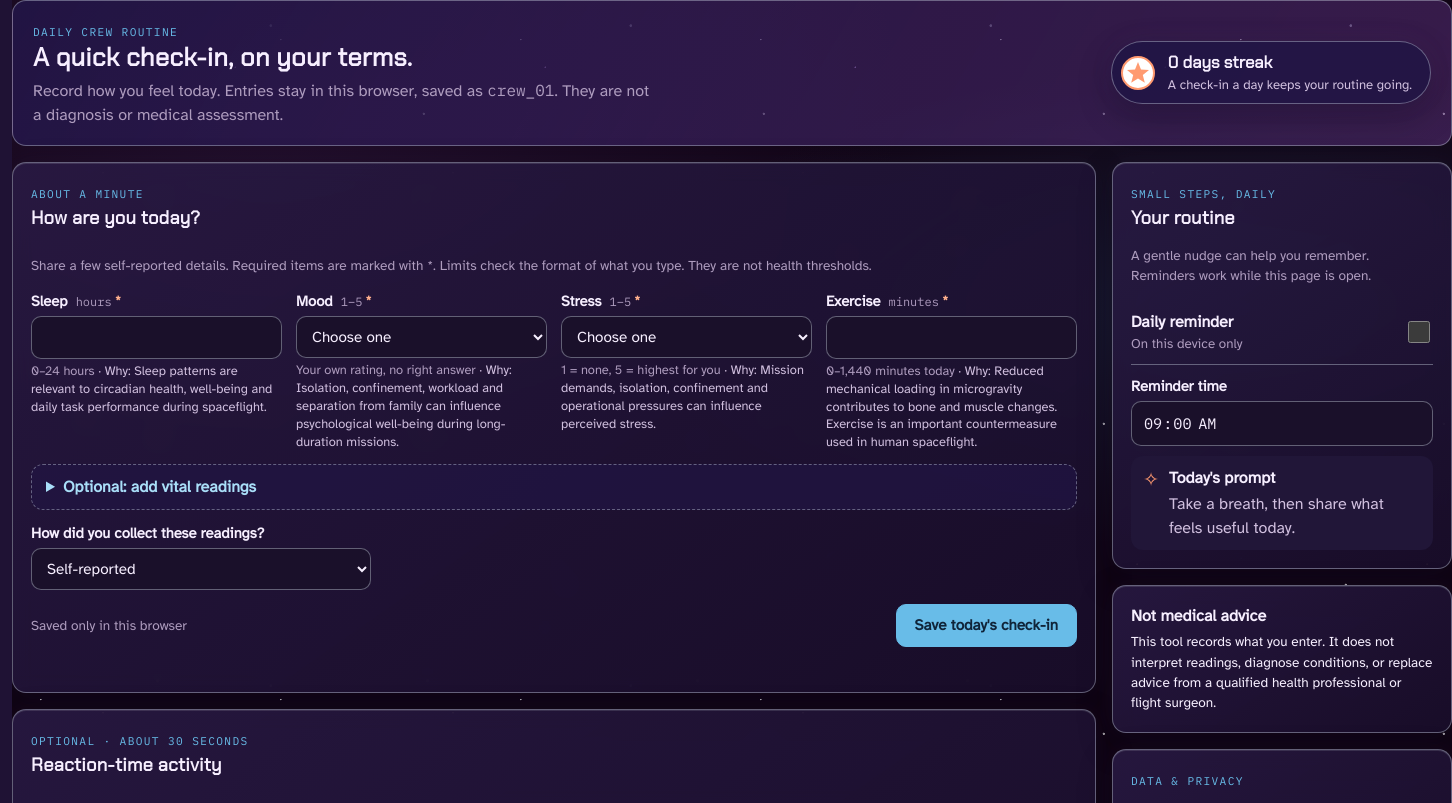
Test: CheckInPage › saves a check-in locally, shows it in history and starts a streak
Type "7.5" into the number field labelled "Sleep hours*".
click(156, 337); type("7.5")  # box x1=31 y1=316 x2=282 y2=359
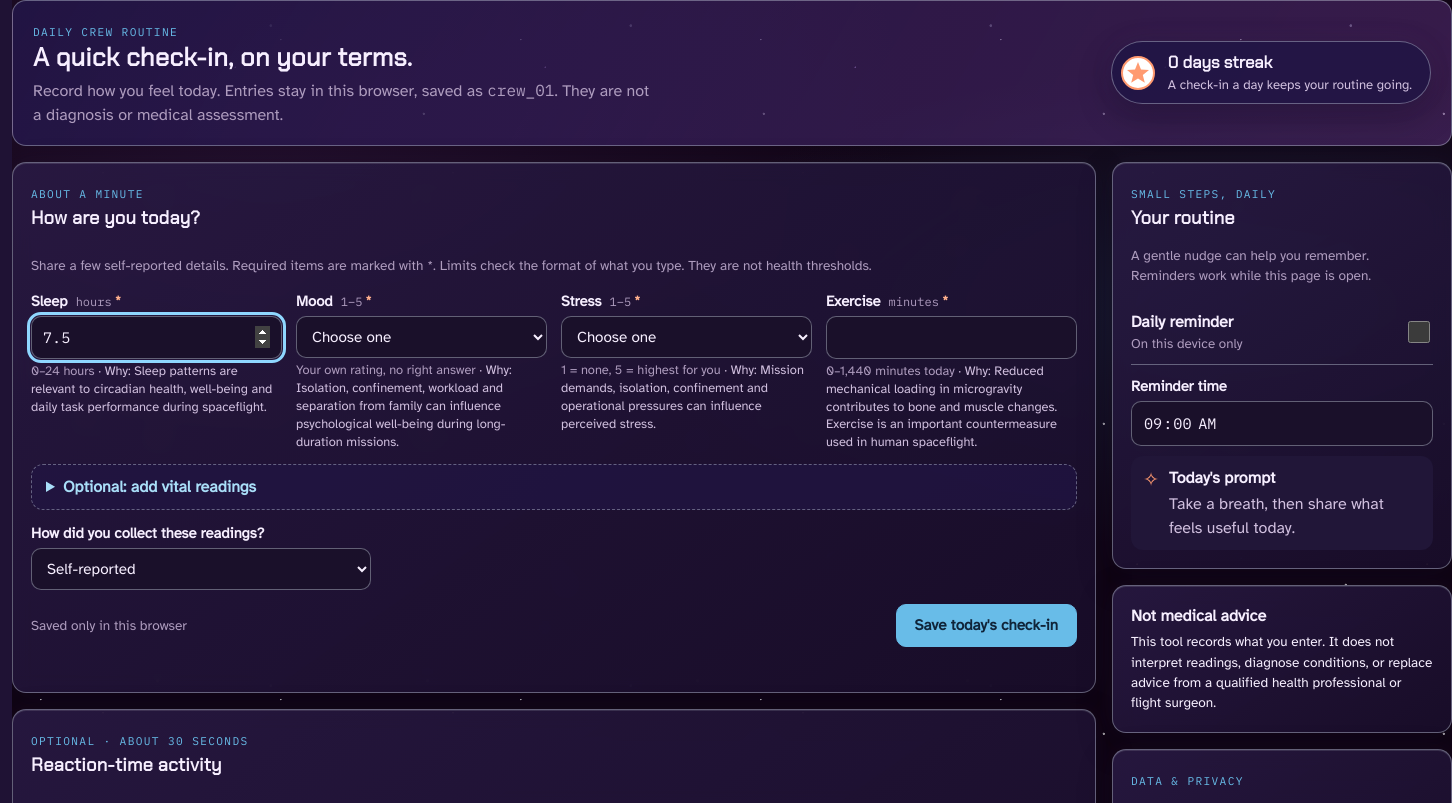
Select "4 — Good" in the dropdown labelled "Mood 1–5*" at (422, 337), box x1=296 y1=316 x2=547 y2=358
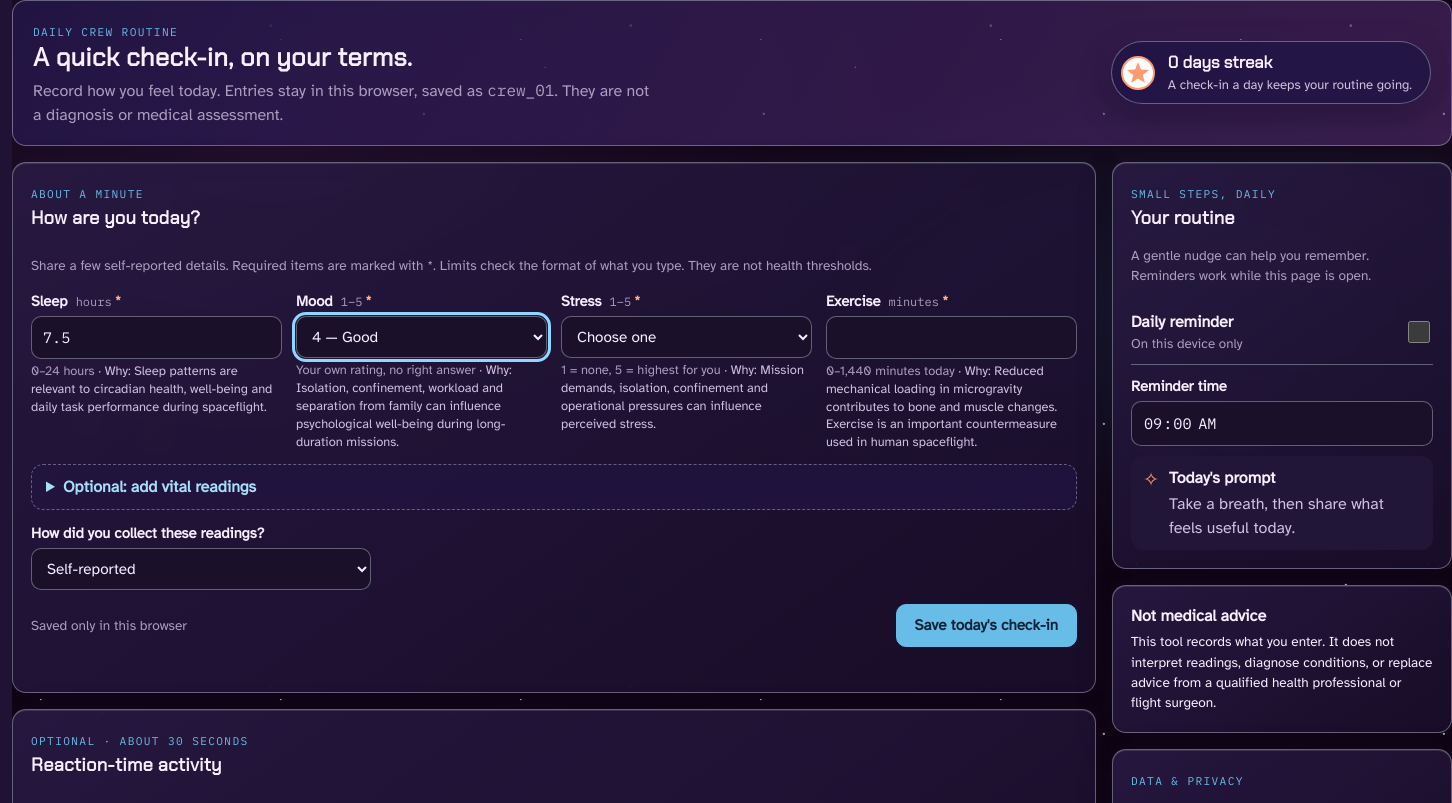
Select "2 — Low" in the dropdown labelled "Stress 1–5*" at (686, 337), box x1=561 y1=316 x2=812 y2=358
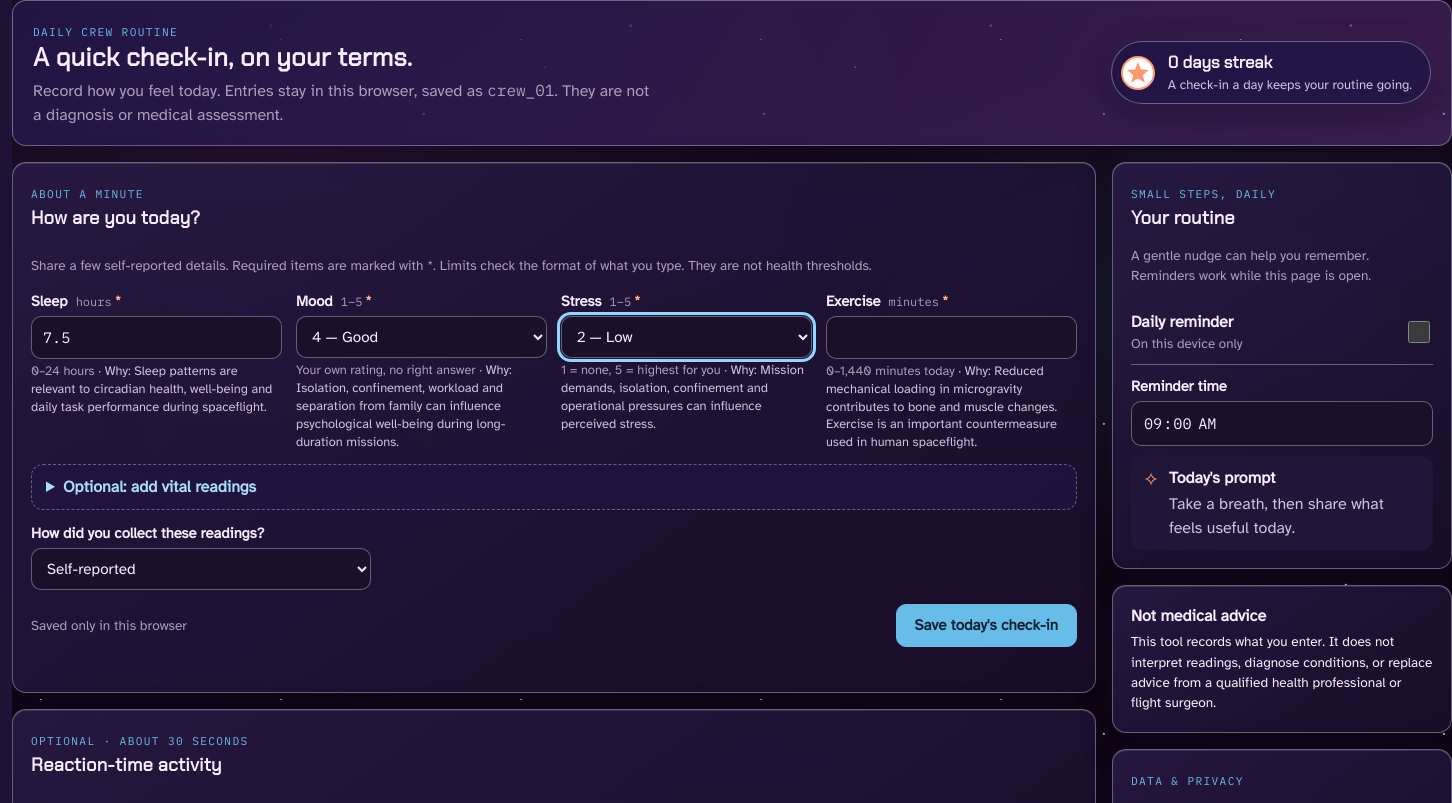
Type "30" into the number field labelled "Exercise minutes*".
click(952, 337); type("30")  # box x1=826 y1=316 x2=1077 y2=359
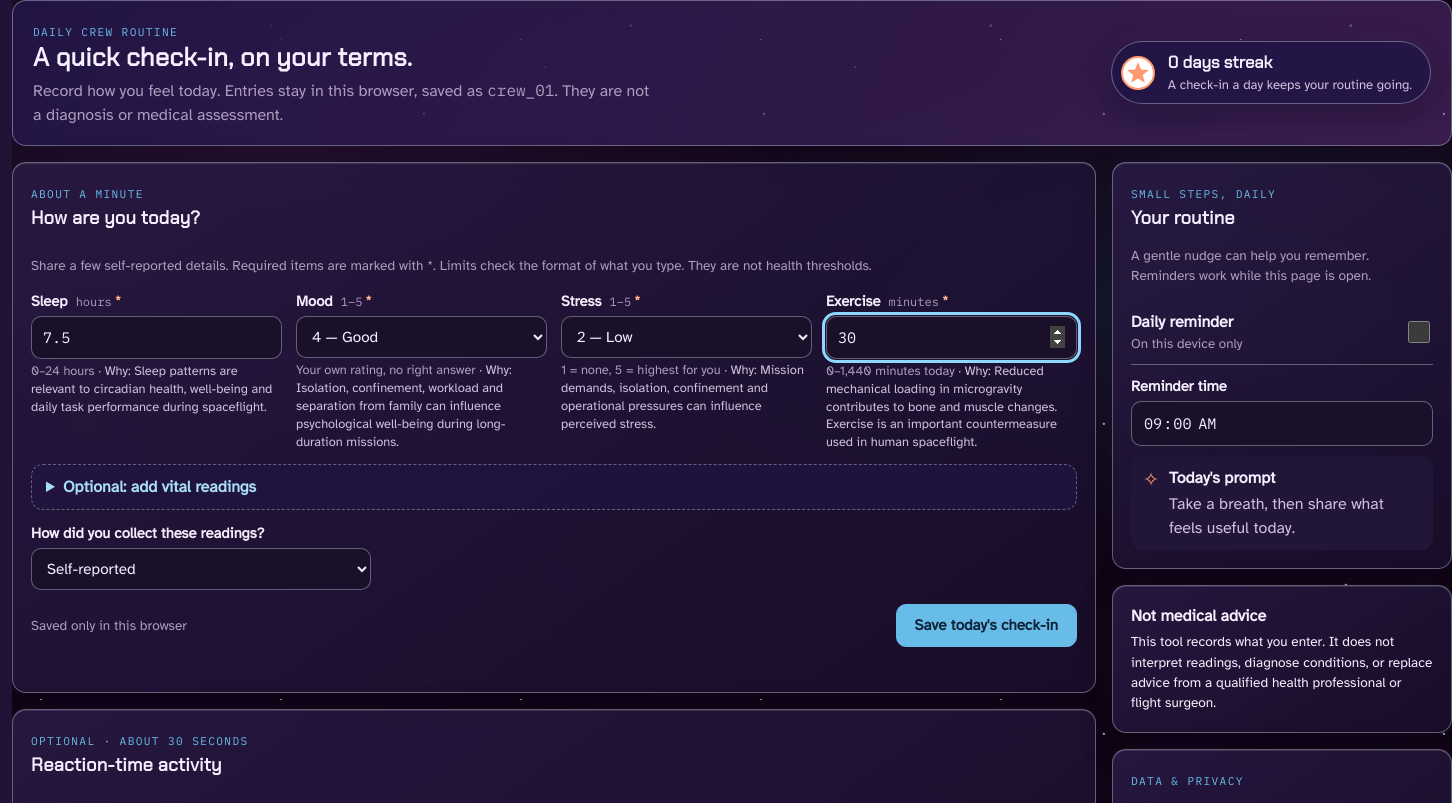
Click the button "Save today's check-in".
click(986, 626)  # box x1=896 y1=604 x2=1077 y2=647
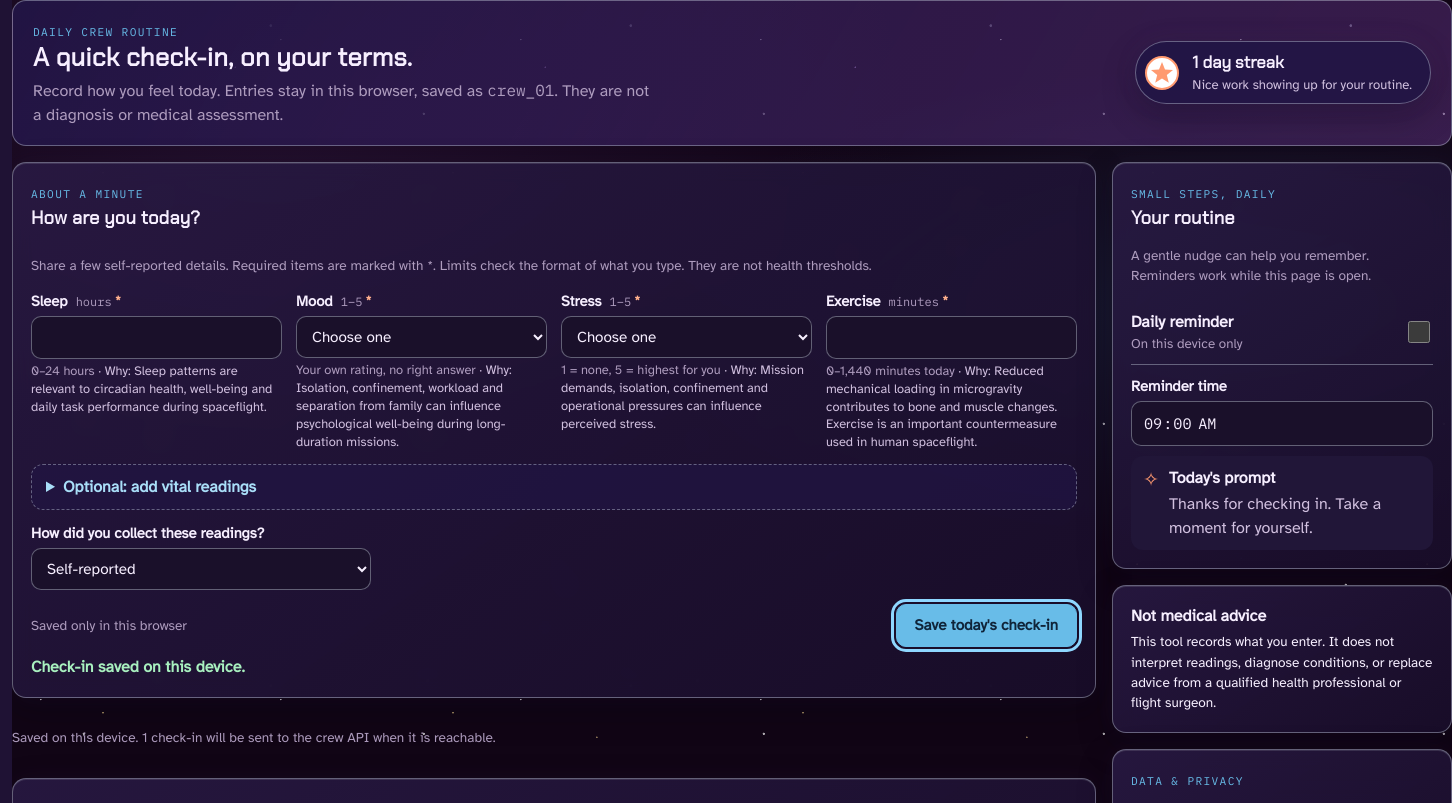
Expected: the text "Check-in saved on this device." is shown, x1=31 y1=657 x2=245 y2=677
Expected: the element with test id "streak" shows "1 day streak", x1=1135 y1=41 x2=1431 y2=104
